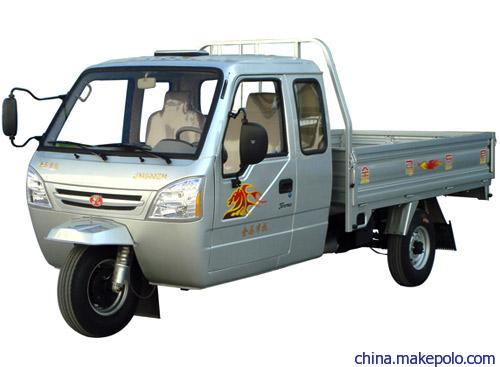tricycle: (16, 37, 491, 333)
